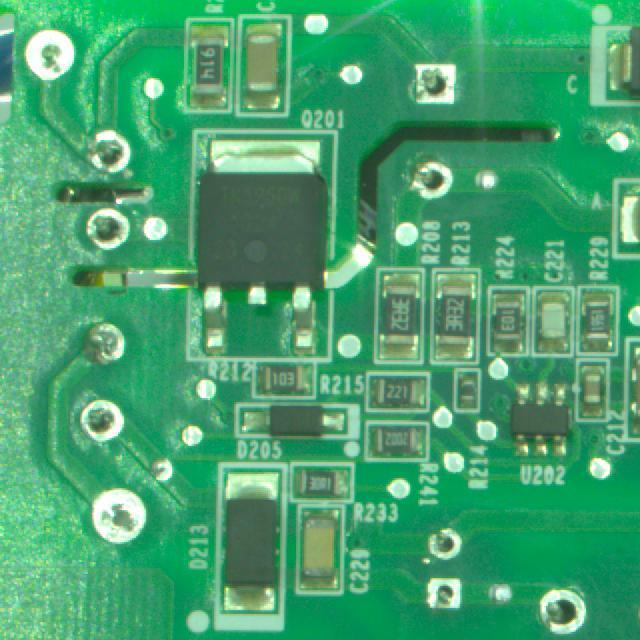Insufficient solder: (84, 480, 153, 549), (536, 582, 593, 640), (25, 28, 78, 89), (77, 396, 128, 450), (82, 129, 137, 178), (409, 57, 458, 109), (83, 207, 133, 256), (427, 520, 468, 565), (407, 162, 453, 201), (430, 576, 464, 609)
